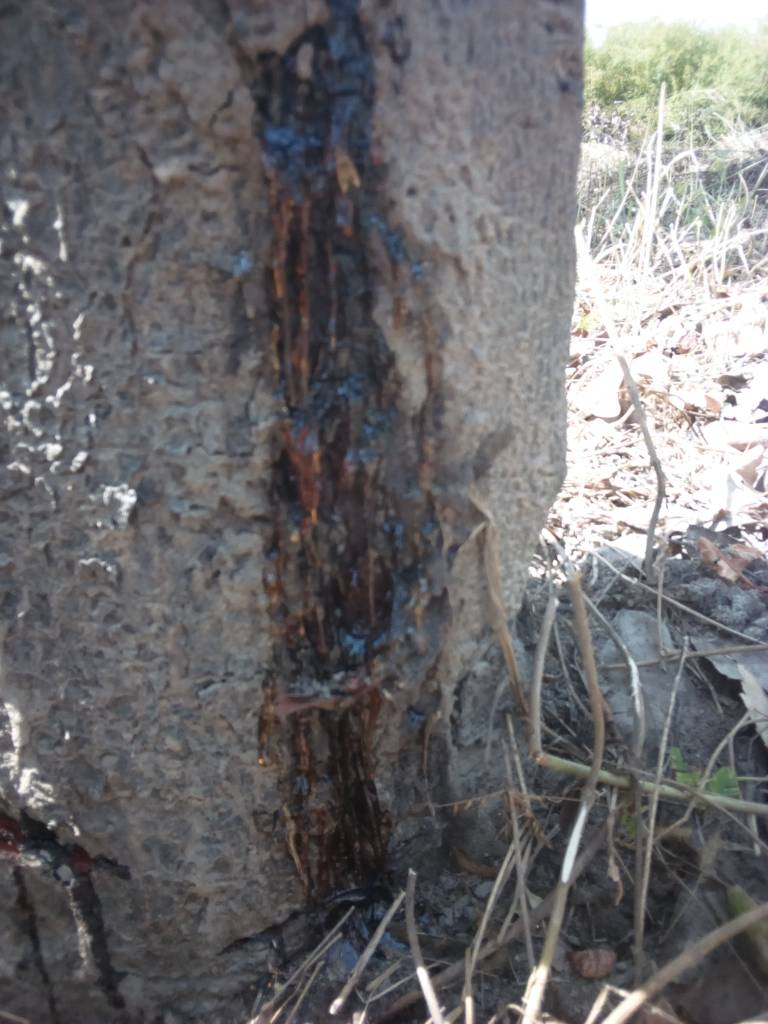Gommose: (241, 28, 433, 889)
